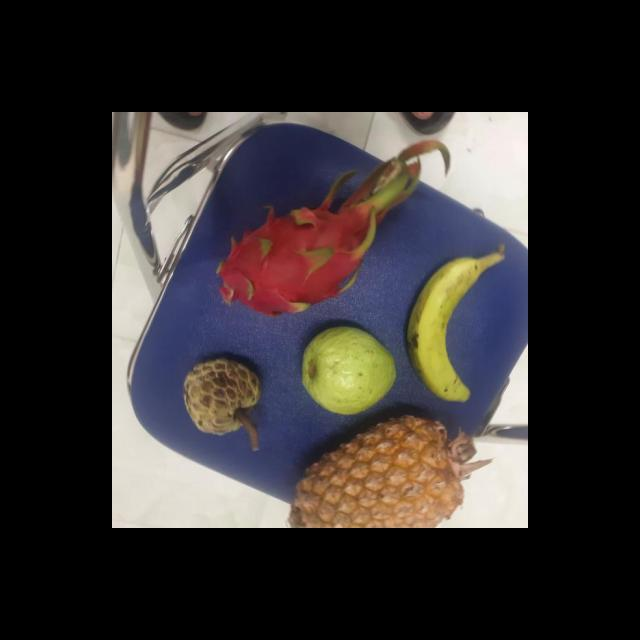Sakya fruit: (180, 358, 260, 436)
banana: (405, 254, 488, 404)
guava: (299, 324, 398, 420)
pineapple: (286, 410, 462, 528)
pitaya: (210, 198, 375, 318)
